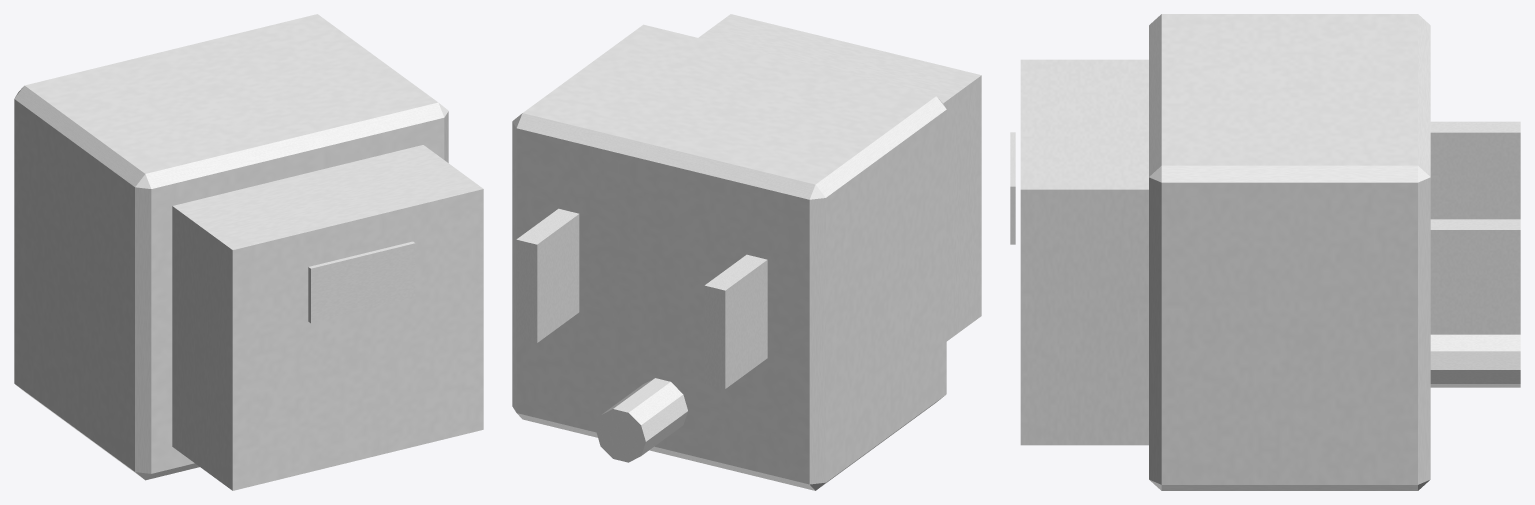
Rendered from nema630plug.obj.
3 views of the same model, side by side, from view 1: azimuth 30°, elevation 25°; view 2: azimuth 150°, elevation 25°; view 3: azimuth 270°, elevation 25° (orthographic). The views are drawn at different scales.
Visible parts, largest first — view 1: Case, Grip, Badge; view 2: Case, Blades, Grip; view 3: Case, Grip, Blades, Badge.
Boxes of the visible parts, x1,y1,x2,y2 form: Case: (14, 14, 448, 480); Grip: (172, 145, 483, 490); Badge: (308, 241, 415, 323); Case: (512, 24, 946, 490); Blades: (516, 208, 767, 462); Grip: (698, 14, 981, 341); Case: (1149, 14, 1430, 490); Grip: (1020, 59, 1148, 445); Blades: (1430, 121, 1520, 387); Badge: (1010, 132, 1015, 244).
Bounding box in the file's own units: 0.15 × 0.14 × 0.199.
